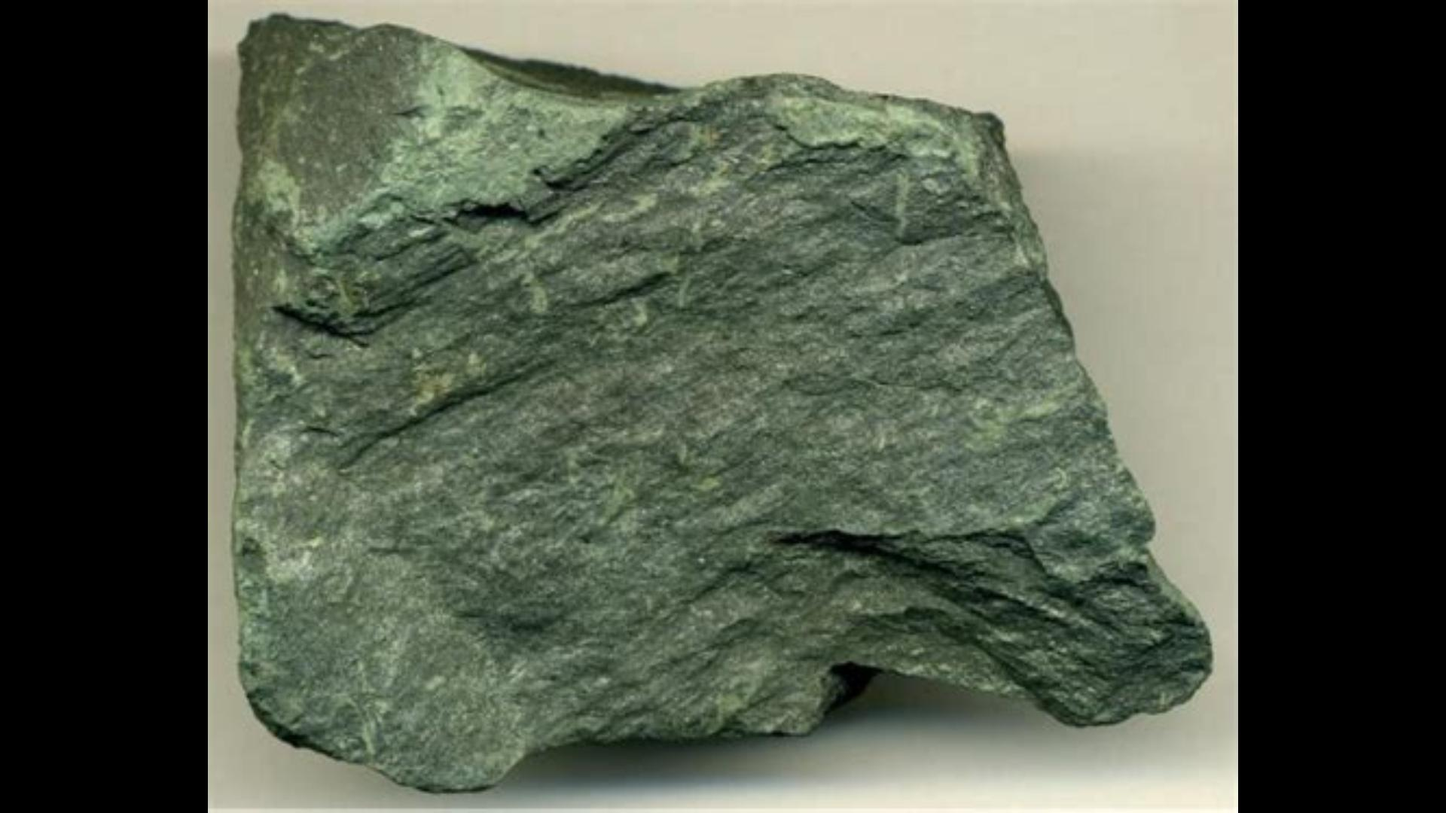rock: (243, 26, 1204, 789)
